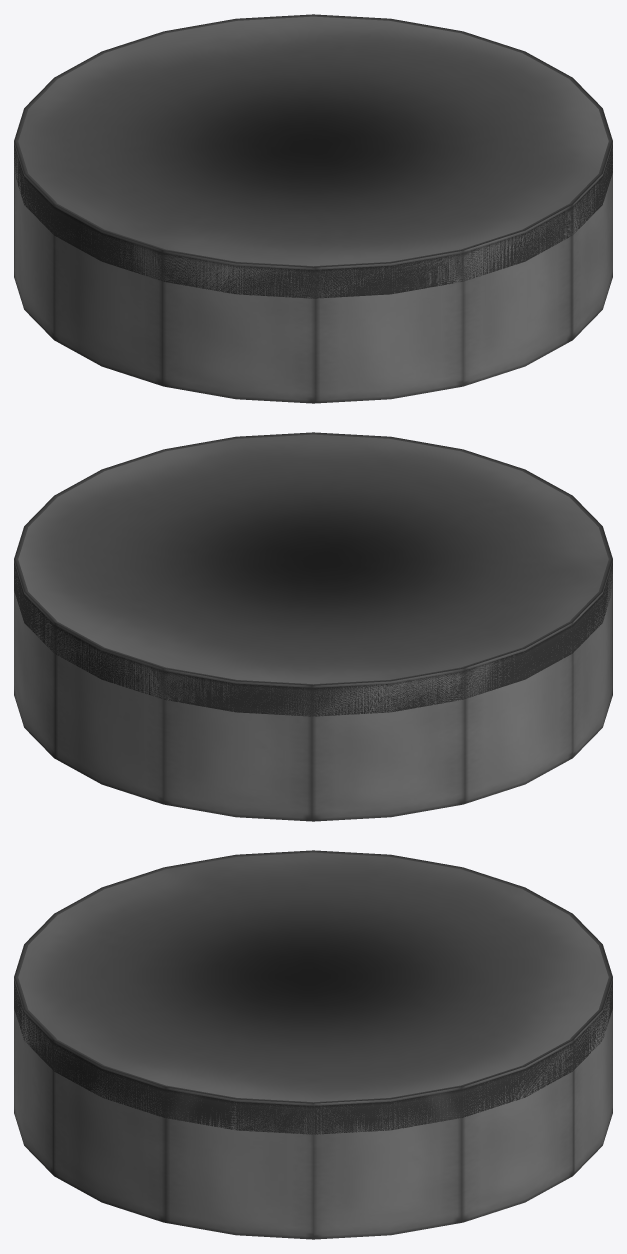
File: bluedog_heatshield15m.dae
The picture shows the model from 3 angles, top to bottom: view 1: azimuth 30°, elevation 25°; view 2: azimuth 150°, elevation 25°; view 3: azimuth 270°, elevation 25°; orthographic projection.
Parts seen in each view (by area): view 1: HeatShield, fairing2, fairing1; view 2: HeatShield, fairing2, fairing1; view 3: HeatShield, fairing2, fairing1.
Boxes of the visible parts, box(x1,y1,x2,y2) form: HeatShield: box(18, 16, 608, 266); fairing2: box(14, 14, 612, 403); fairing1: box(14, 144, 612, 298); HeatShield: box(18, 434, 608, 684); fairing2: box(14, 432, 612, 821); fairing1: box(14, 562, 612, 716); HeatShield: box(18, 852, 608, 1102); fairing2: box(14, 850, 612, 1239); fairing1: box(14, 980, 612, 1134).
Bounding box in the file's own units: 1.5 × 0.3759 × 1.5.
